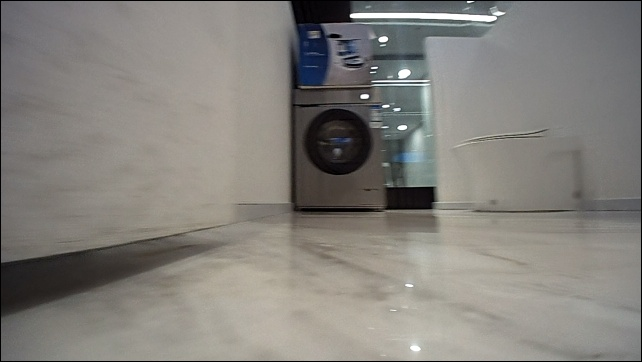toilet: (448, 126, 585, 214)
washing_machine: (291, 85, 385, 213)
